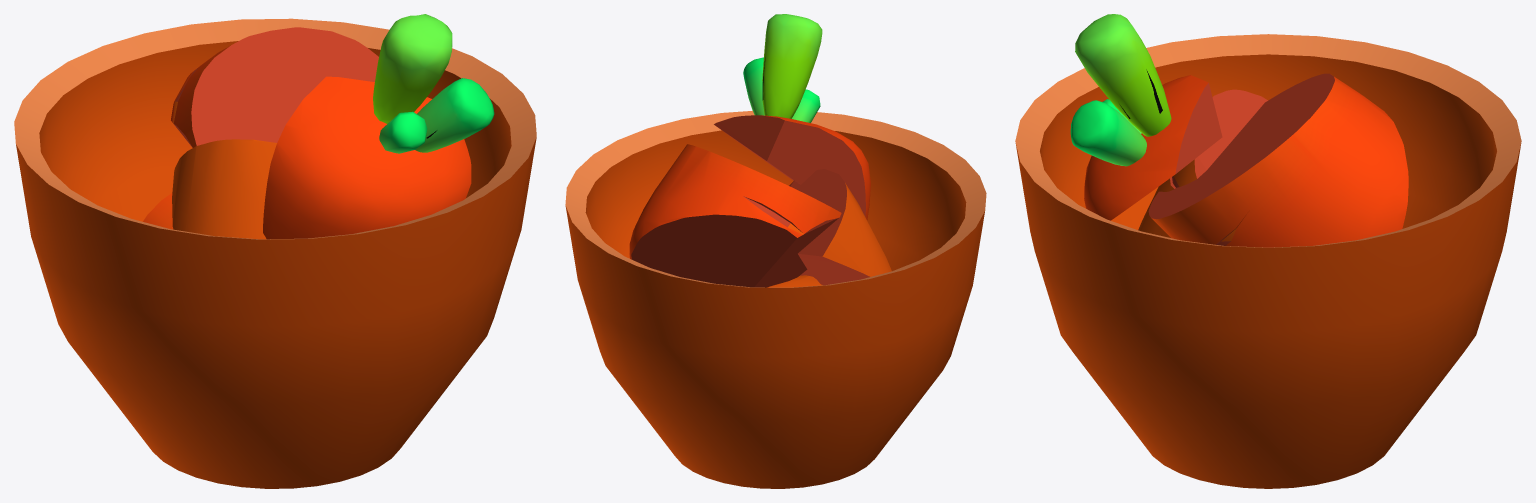
Rendered from SOP.fbx.
The picture shows the model from 3 angles, left to right: view 1: azimuth 30°, elevation 25°; view 2: azimuth 150°, elevation 25°; view 3: azimuth 270°, elevation 25°; orthographic projection. The views are drawn at different scales.
Visible parts, largest first — view 1: Cylinder.007, Cube_cell.018, Cube_cell.013, Cube_cell.015, Cube.008, Cube.007, Cube.009, Cube_cell.014; view 2: Cylinder.007, Cube_cell.013, Cube_cell.018, Cube_cell.015, Cube.008, Cube.007, Cube.009; view 3: Cylinder.007, Cube_cell.013, Cube_cell.018, Cube.008, Cube.007, Cube_cell.015.
Boxes of the visible parts, bbox=[...] form: Cylinder.007: bbox=[14, 18, 536, 488]; Cube_cell.018: bbox=[263, 76, 471, 239]; Cube_cell.013: bbox=[171, 27, 378, 147]; Cube_cell.015: bbox=[172, 139, 276, 239]; Cube.008: bbox=[373, 14, 452, 123]; Cube.007: bbox=[415, 78, 494, 152]; Cube.009: bbox=[379, 111, 427, 153]; Cube_cell.014: bbox=[143, 193, 173, 229]; Cylinder.007: bbox=[565, 111, 986, 488]; Cube_cell.013: bbox=[629, 144, 841, 287]; Cube_cell.018: bbox=[714, 115, 870, 220]; Cube_cell.015: bbox=[789, 169, 891, 285]; Cube.008: bbox=[762, 14, 822, 118]; Cube.007: bbox=[743, 57, 764, 115]; Cube.009: bbox=[791, 89, 820, 122]; Cylinder.007: bbox=[1015, 34, 1521, 488]; Cube_cell.013: bbox=[1148, 73, 1408, 247]; Cube_cell.018: bbox=[1084, 75, 1222, 220]; Cube.008: bbox=[1075, 14, 1171, 136]; Cube.007: bbox=[1070, 100, 1146, 166]; Cube_cell.015: bbox=[1138, 89, 1267, 237].
Bounding box in the file's own units: 374 × 363 × 374.
7 materials, 4 textured.
